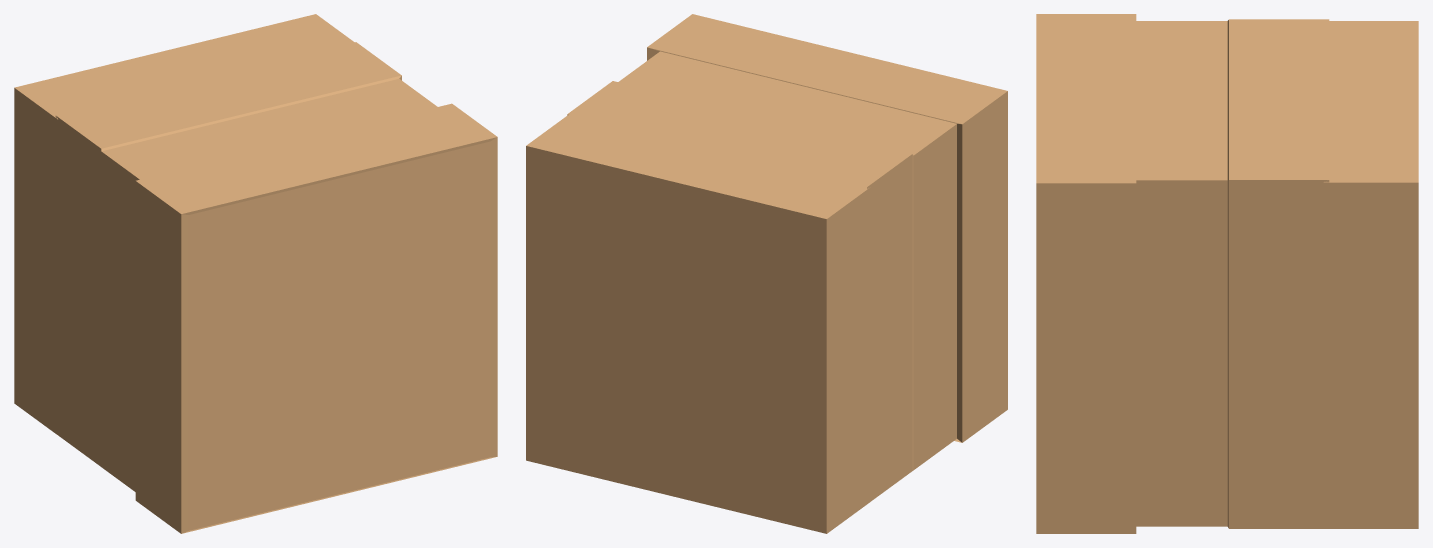
The model's file is cube_modular4_variacion.fbx.
3 views of the same model, side by side, from view 1: azimuth 30°, elevation 25°; view 2: azimuth 150°, elevation 25°; view 3: azimuth 270°, elevation 25° (orthographic). The views are drawn at different scales.
Parts seen in each view (by area): view 1: cube_new_2; view 2: cube_new_2; view 3: cube_new_2.
Boxes of the visible parts, x1,y1,x2,y2 form: cube_new_2: [14, 14, 497, 533]; cube_new_2: [526, 14, 1007, 533]; cube_new_2: [1036, 14, 1418, 533].
Bounding box in the file's own units: 420 × 405 × 400.
